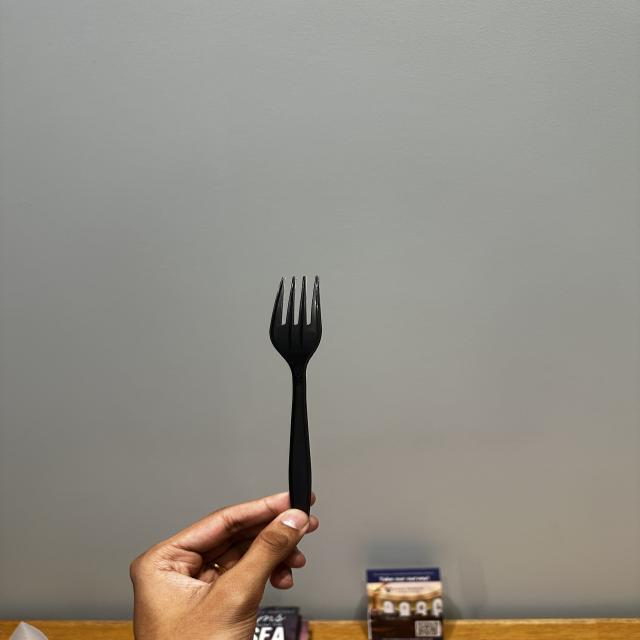fork: (245, 260, 362, 527)
